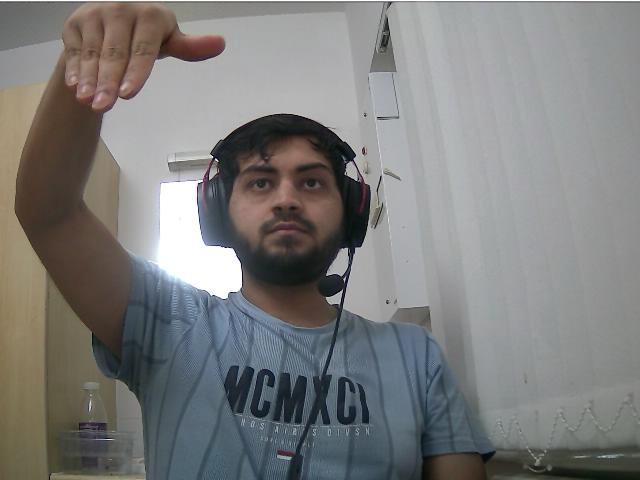down: (49, 1, 163, 109)
